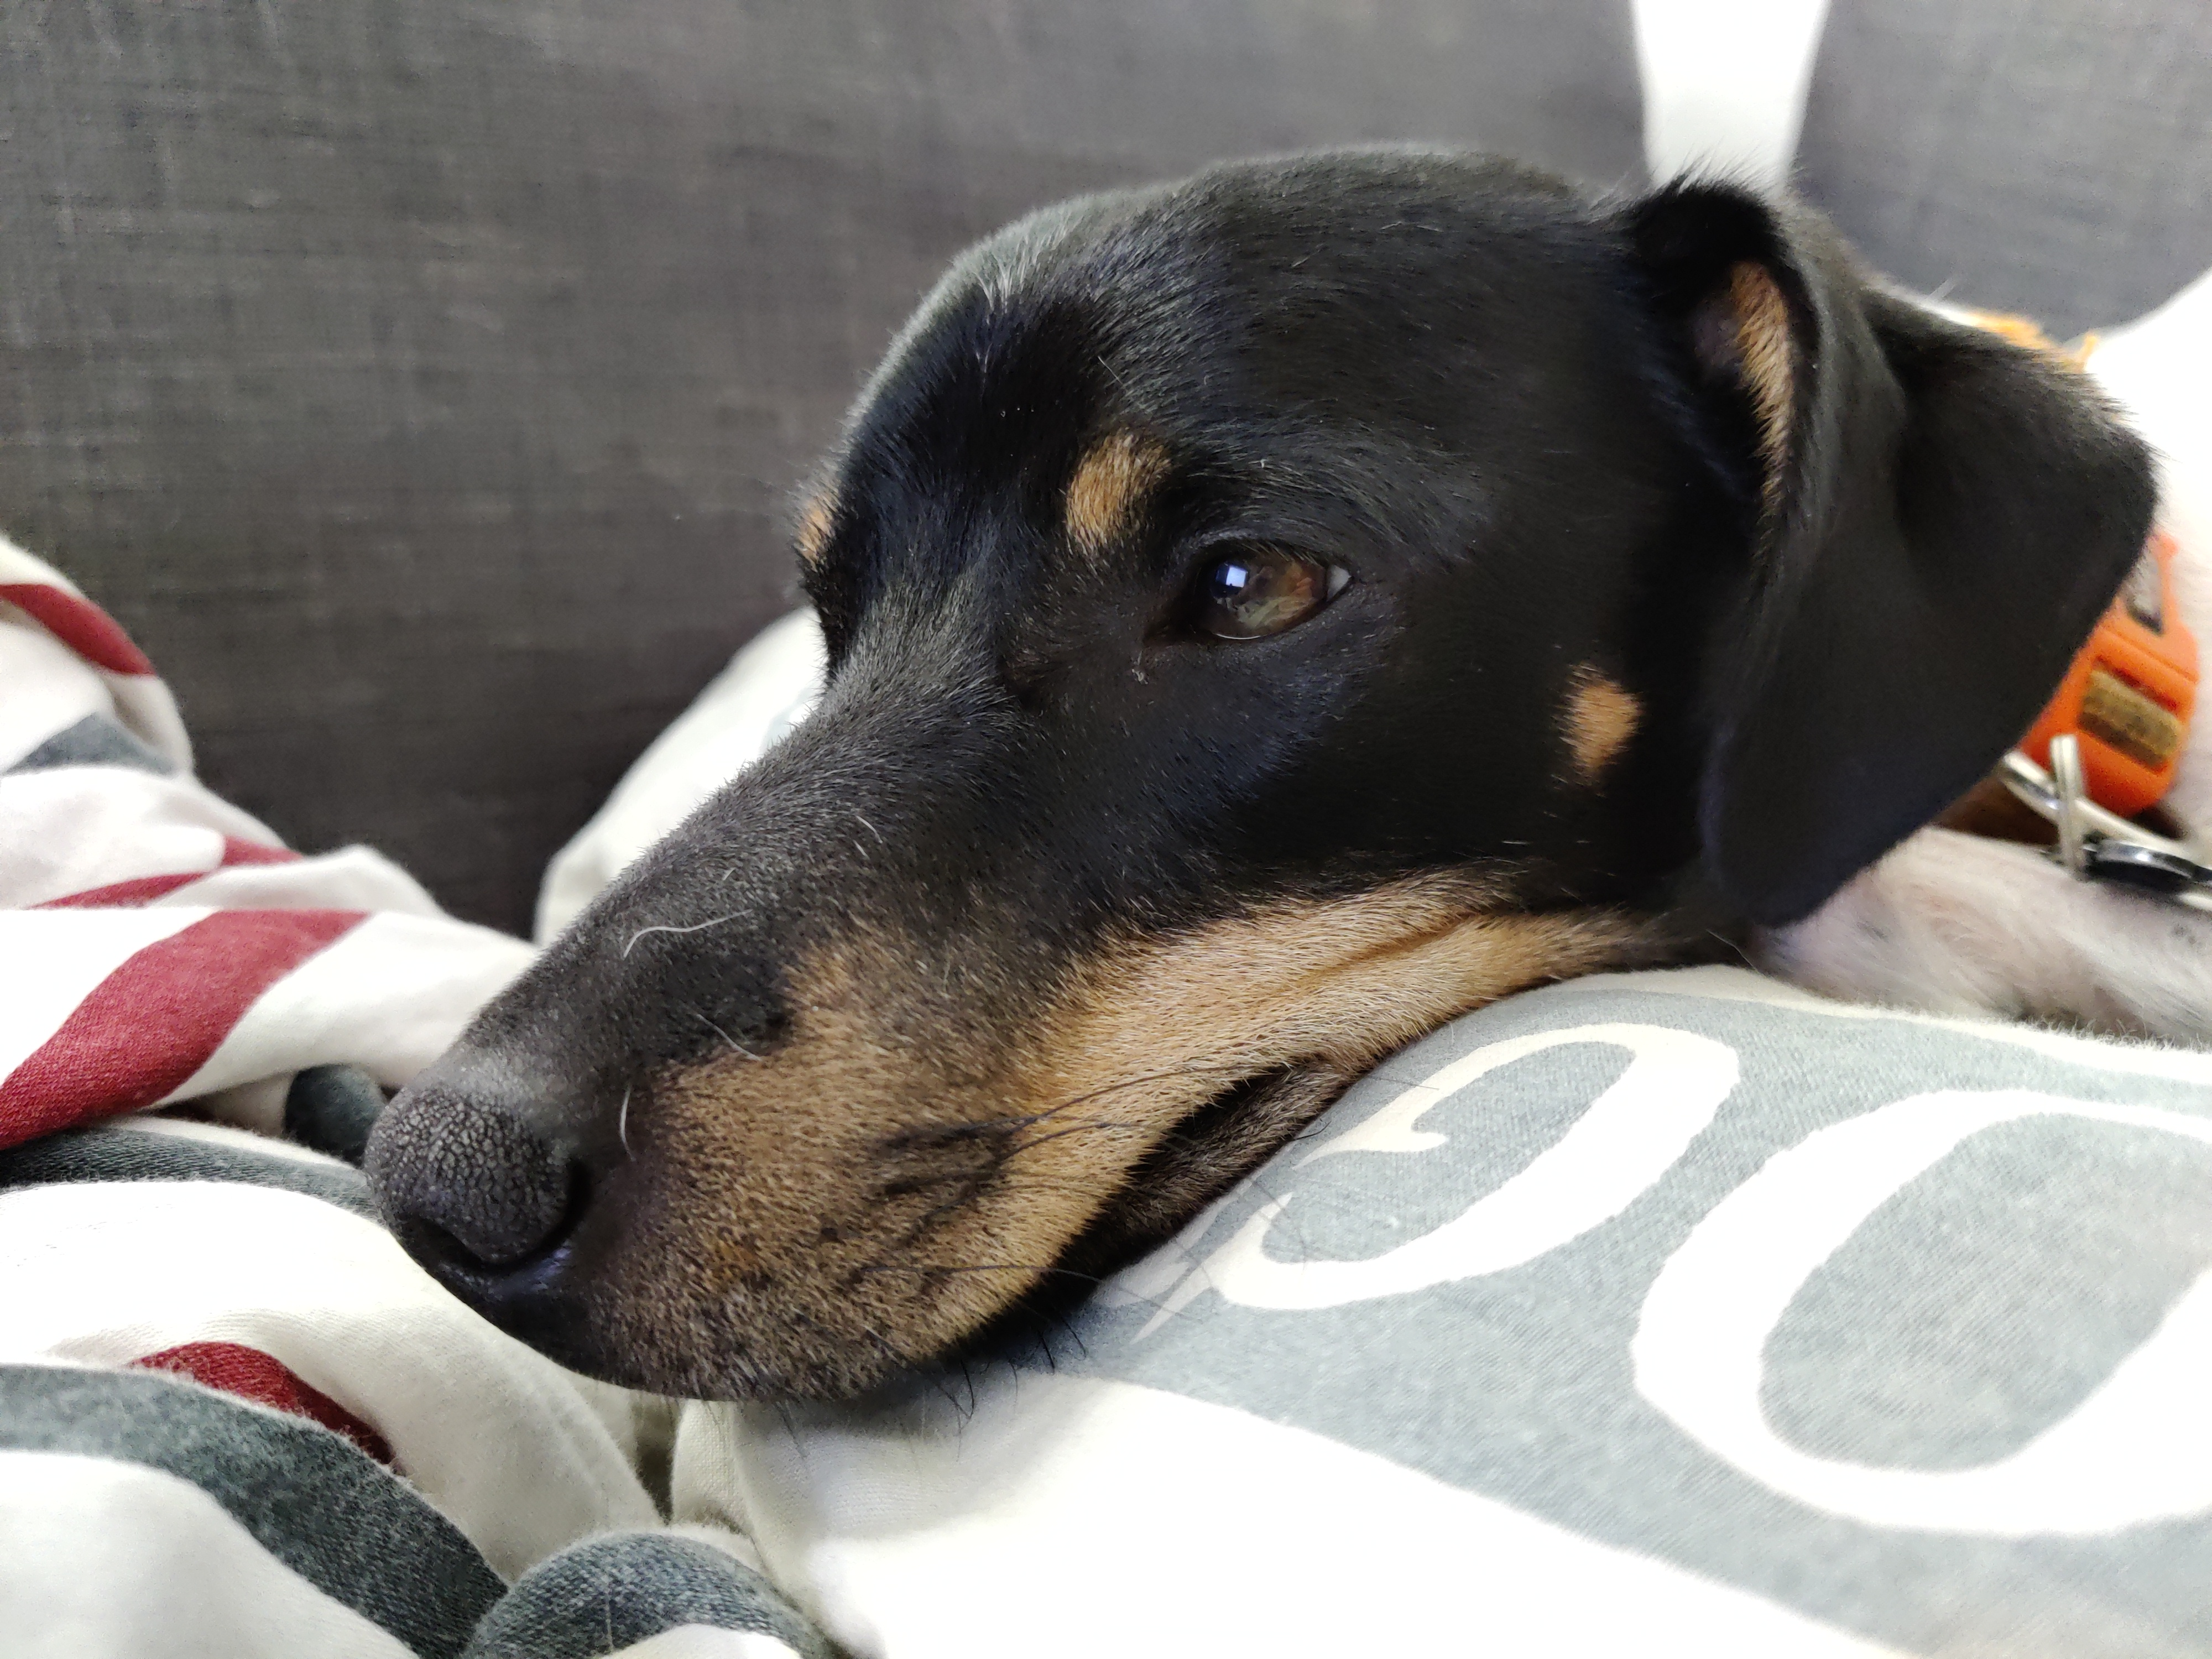Dog: (341, 124, 2212, 1439)
